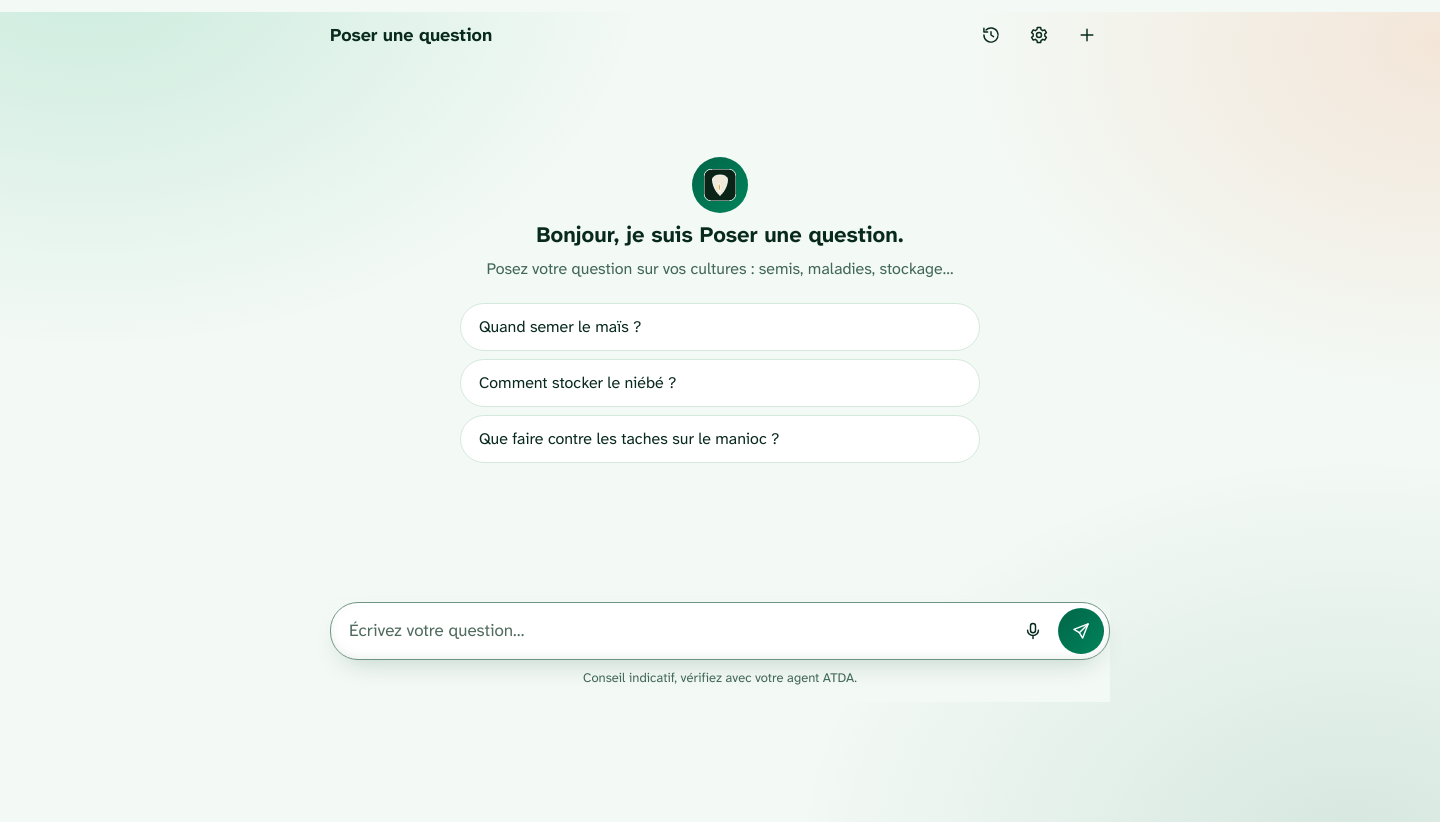
Assistant agricole › nomme la conversation d'une courte phrase nominale donnée par l'assistant, une seule fois
This screenshot has width=1440, height=822.
Type "Quand semer le maïs ?" into the text box with placeholder "Écrivez votre question…" at (678, 631), box [349,608,1008,654]
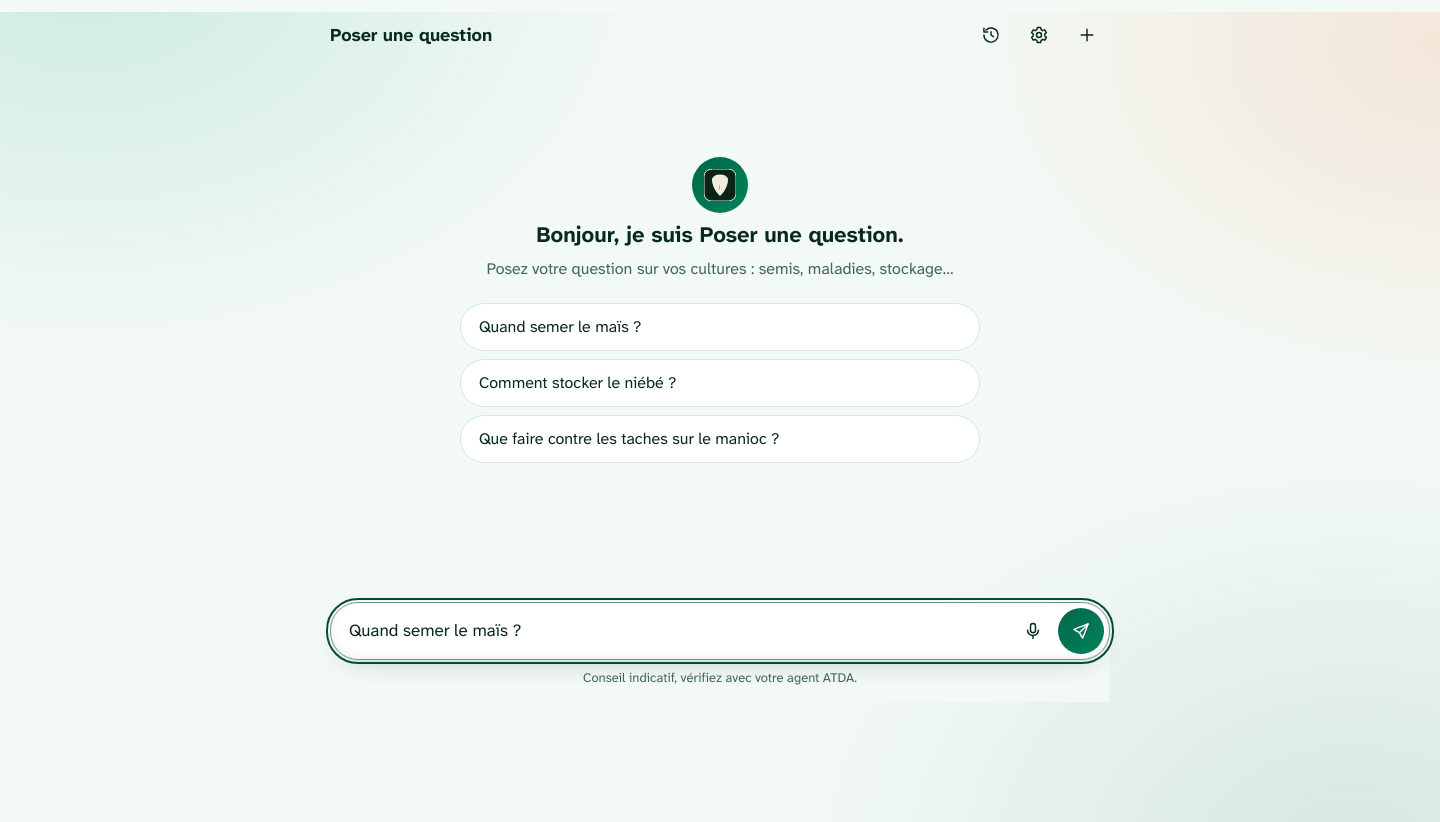
Click the button named "Envoyer" at (1081, 631), box [1058,608,1104,654]
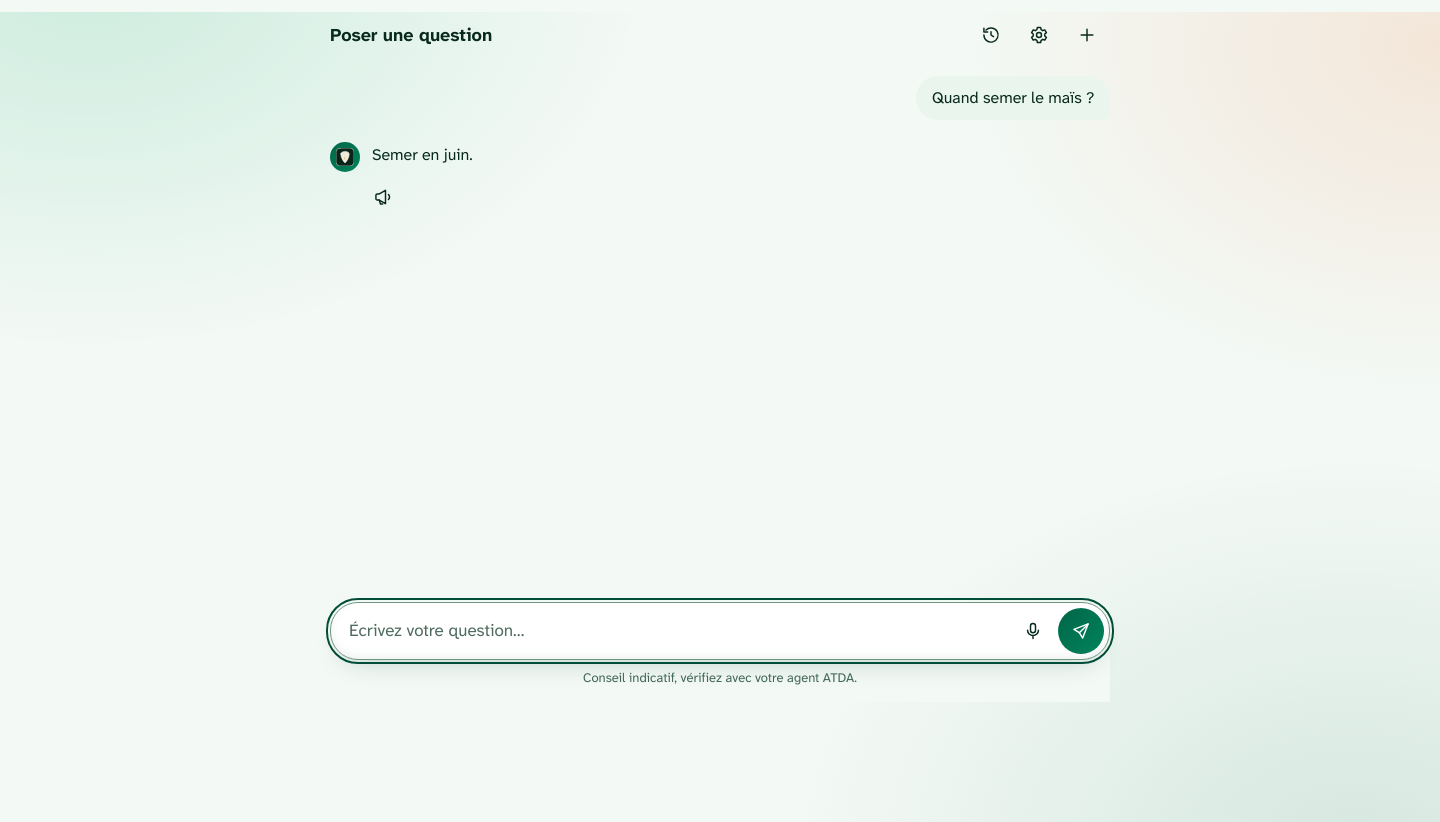
Now the text "Semer en juin." is shown, box [372,144,473,165]
Type "Et pour le riz ?" into the text box with placeholder "Écrivez votre question…" at (678, 631), box [349,608,1008,654]
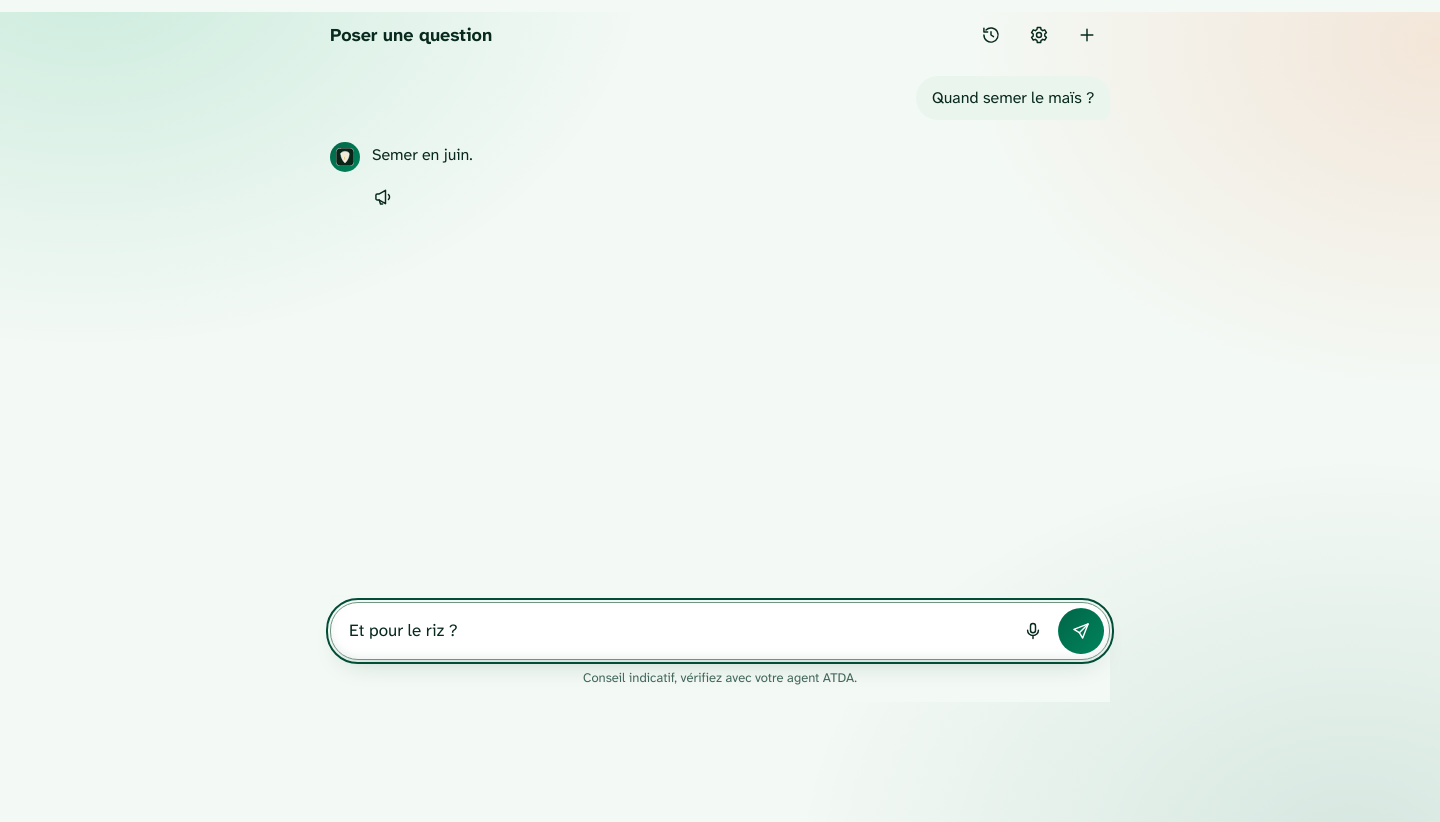
Click the button named "Envoyer" at (1081, 631), box [1058,608,1104,654]
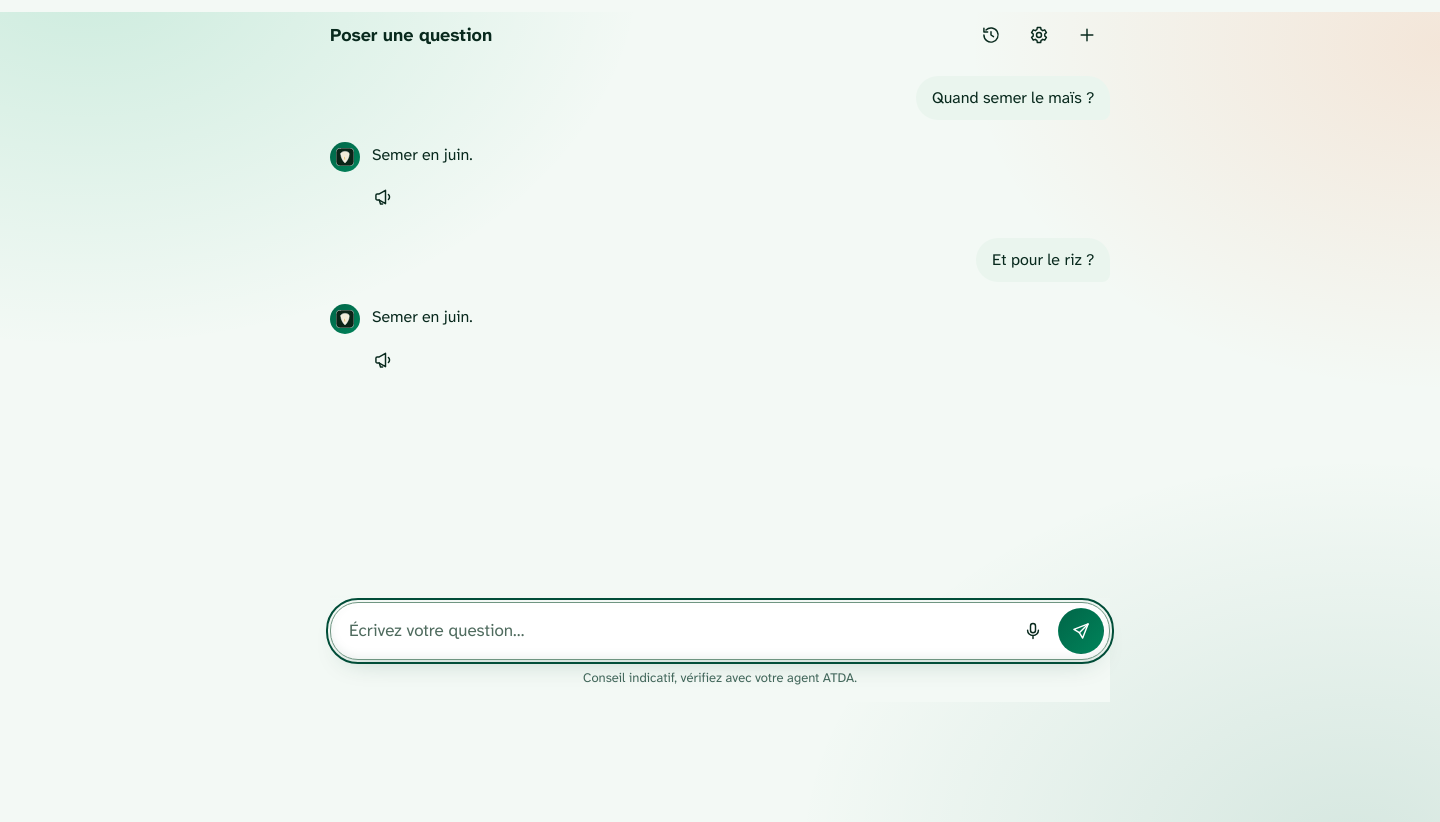
Now the text "Semer en juin." is shown 2 times, box [372,144,473,165]; [372,306,473,327]
Click the button named "Mes conversations" at (991, 35), box [968,12,1014,58]
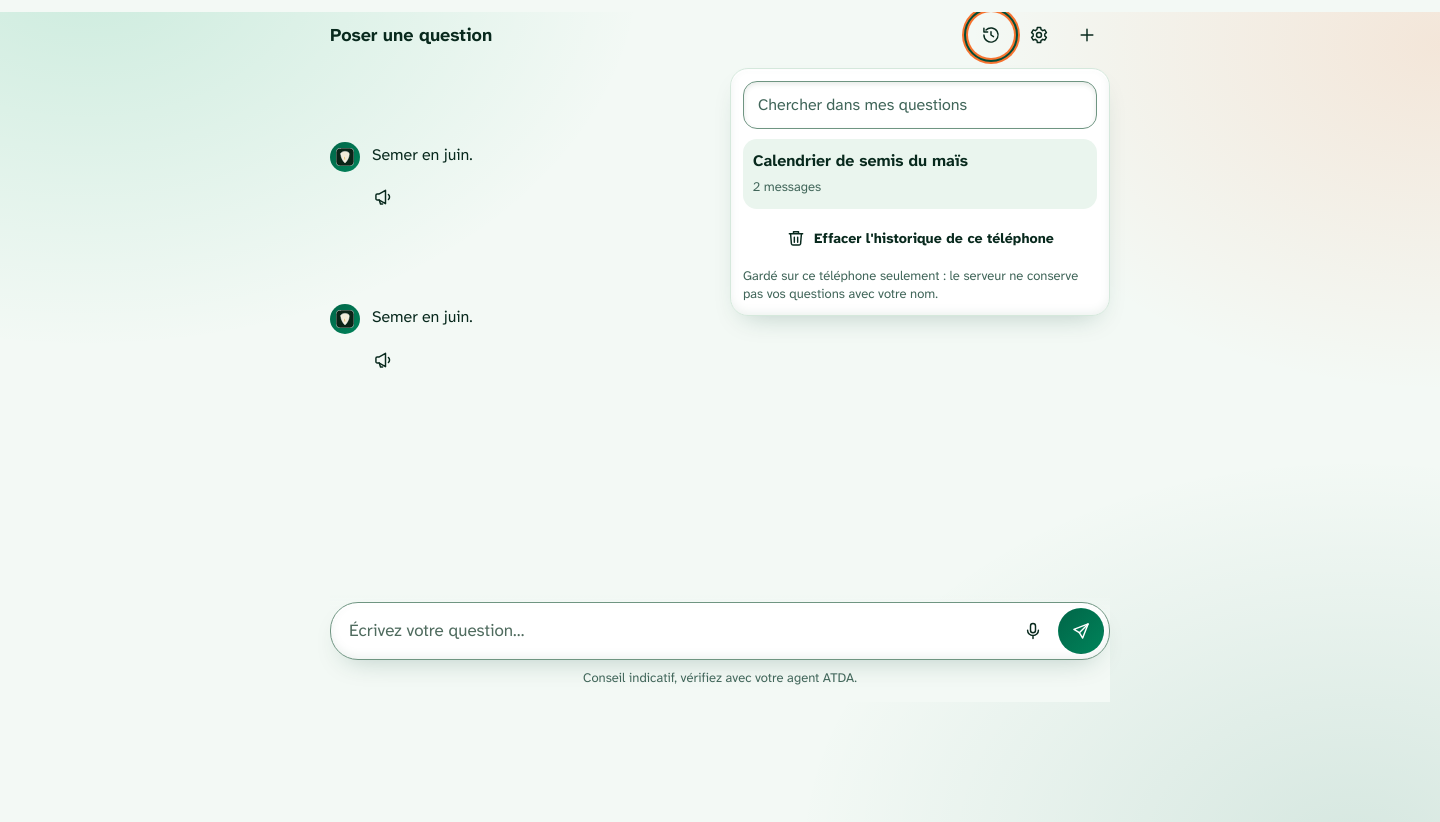
Now the button "Calendrier de semis du maïs 2 messages" is shown, box [743,139,1097,209]
